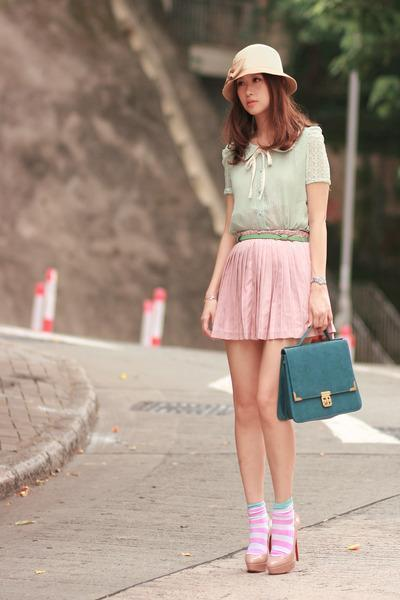bag: (277, 332, 361, 422)
hat: (222, 44, 293, 100)
shirt: (222, 132, 330, 247)
shoe: (245, 554, 296, 574)
skirt: (202, 239, 341, 343)
